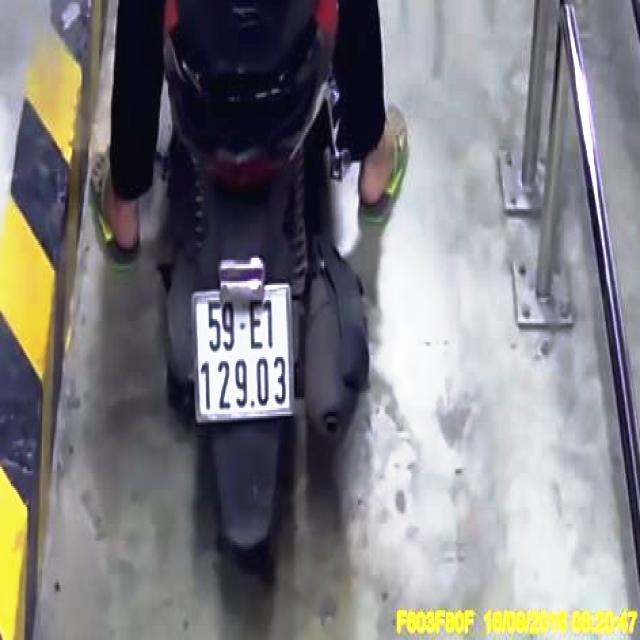license_plate: (198, 290, 293, 417)
